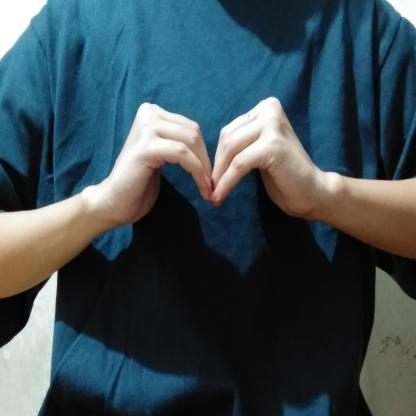how: (84, 83, 340, 244)
